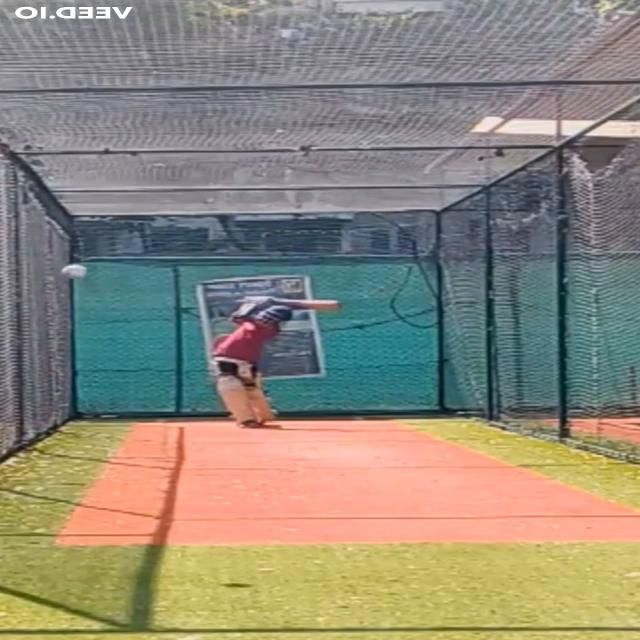ball: (57, 261, 93, 286)
